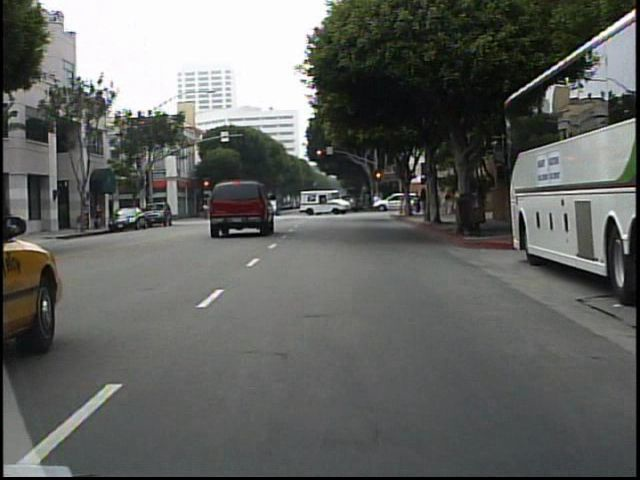person: (442, 181, 458, 220)
